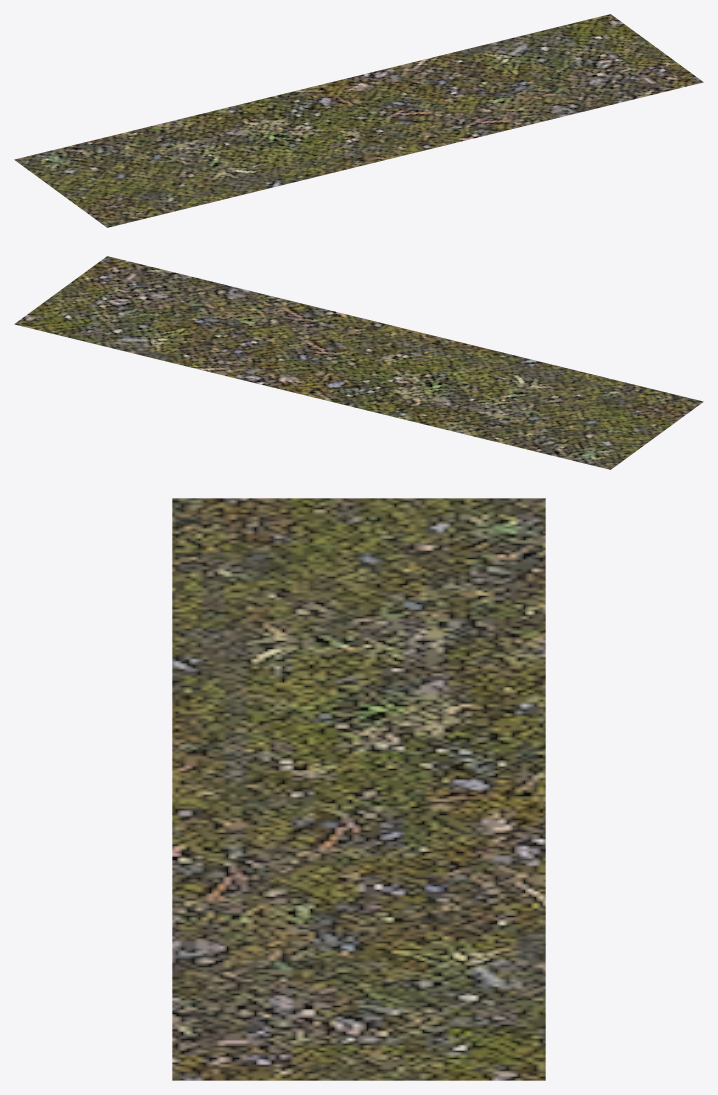
Rendered from Emb_BalconyPlanter_Dirt_01.FBX.
3 views of the same model, one above another, from view 1: azimuth 30°, elevation 25°; view 2: azimuth 150°, elevation 25°; view 3: azimuth 270°, elevation 25° (orthographic). The views are drawn at different scales.
Parts seen in each view (by area): view 1: Emb_BalconyPlanter_Dirt_01; view 2: Emb_BalconyPlanter_Dirt_01; view 3: Emb_BalconyPlanter_Dirt_01.
Boxes of the visible parts, x1,y1,x2,y2 form: Emb_BalconyPlanter_Dirt_01: (14, 14, 703, 227); Emb_BalconyPlanter_Dirt_01: (14, 256, 703, 469); Emb_BalconyPlanter_Dirt_01: (172, 498, 545, 1080).
Size of the model in its own units: 4.8 by 3.33e-16 by 1.3.
